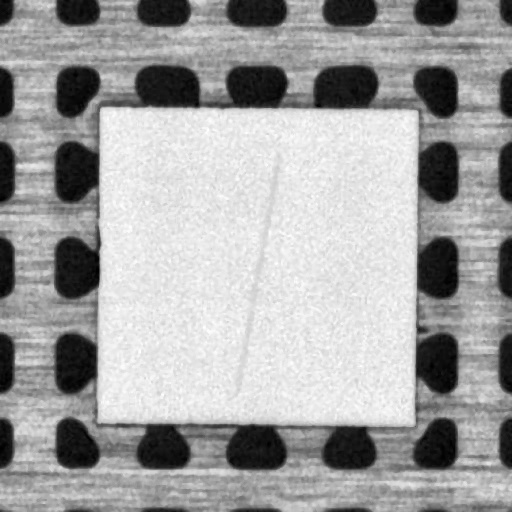DIE_CRACK: (235, 154, 277, 396)
